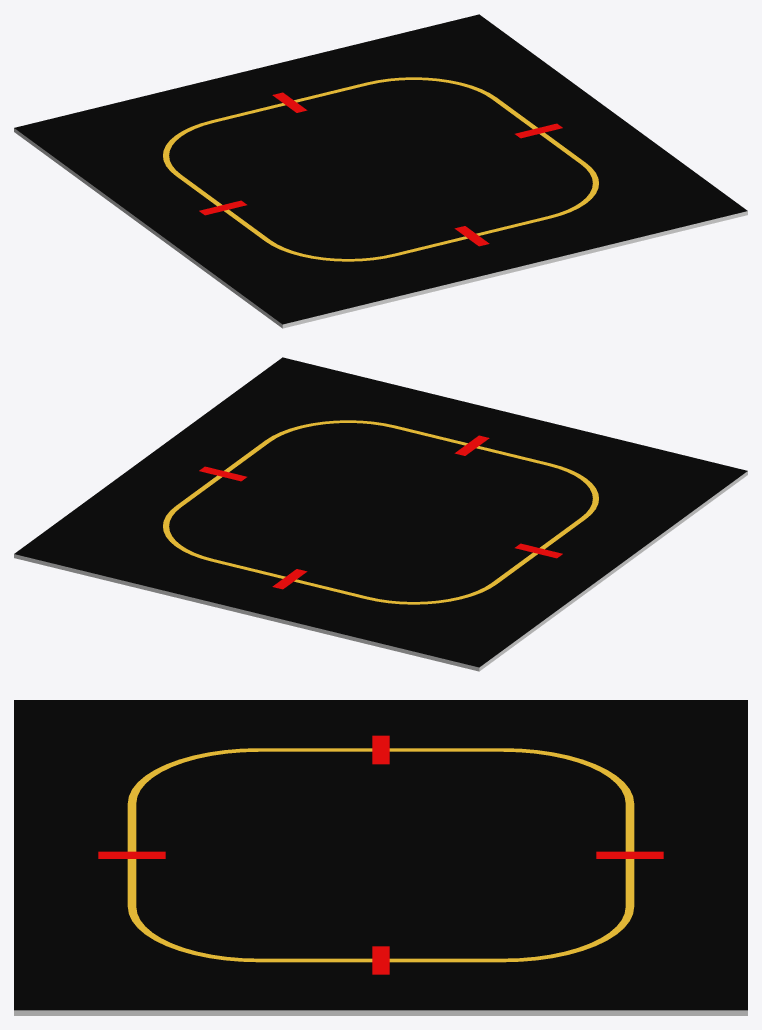
The model's file is empty_map.dae.
3 renders of one model, top to bottom at view 1: azimuth 30°, elevation 25°; view 2: azimuth 150°, elevation 25°; view 3: azimuth 270°, elevation 25°, orthographic. The views are drawn at different scales.
Parts seen in each view (by area): view 1: SketchUp (×7); view 2: SketchUp (×7); view 3: SketchUp (×10).
Boxes of the visible parts, x1,y1,x2,y2 form: SketchUp (×7): [14, 14, 747, 328]; SketchUp (×7): [14, 357, 747, 671]; SketchUp (×10): [14, 700, 747, 1015].
Size of the model in its own units: 236 by 236 by 1.97.
